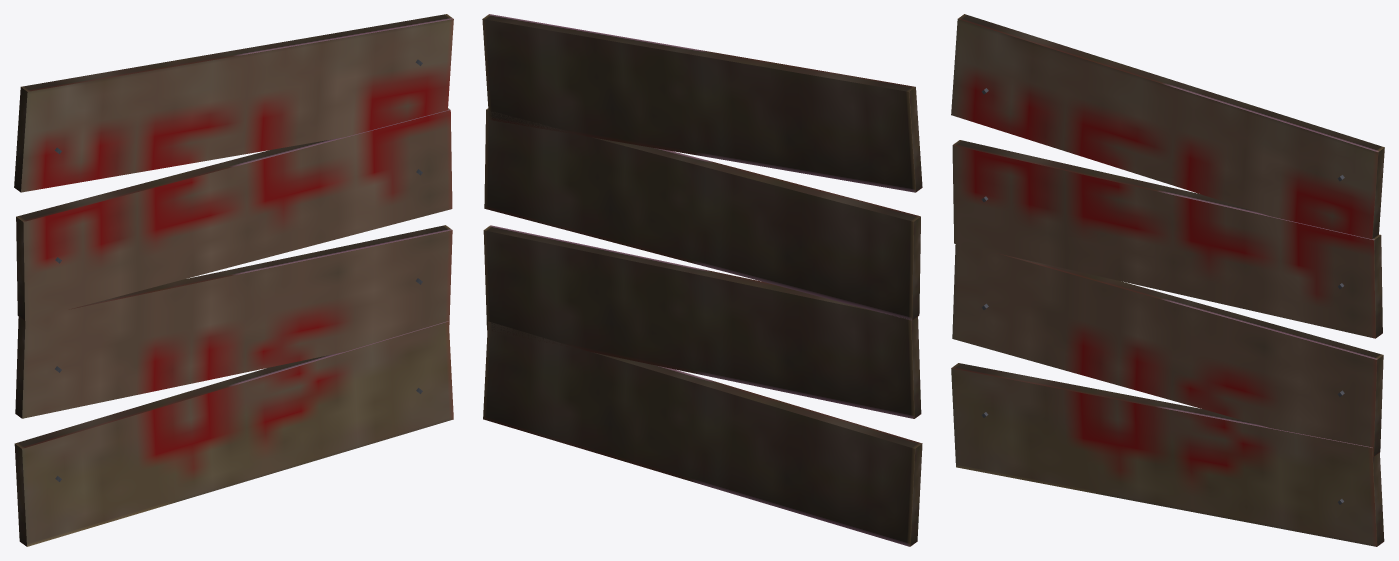
File: sign_help.obj
The picture shows the model from 3 angles, left to right: view 1: azimuth 30°, elevation 25°; view 2: azimuth 150°, elevation 25°; view 3: azimuth 330°, elevation 25°; orthographic projection.
Parts seen in each view (by area): view 1: sign_help; view 2: sign_help; view 3: sign_help.
Boxes of the visible parts, x1,y1,x2,y2 form: sign_help: (14,14,453,546); sign_help: (482,14,922,546); sign_help: (951,14,1384,546).
Bounding box in the file's own units: 0.9118 × 0.9146 × 0.035.
Materials: 1 (1 with a texture image).
